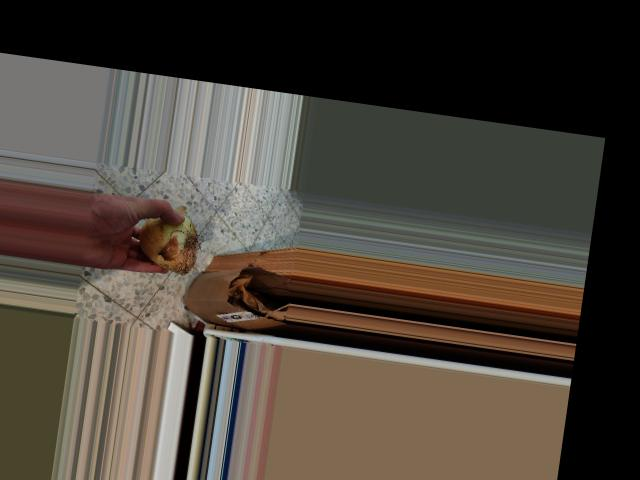onion: (132, 203, 205, 277)
